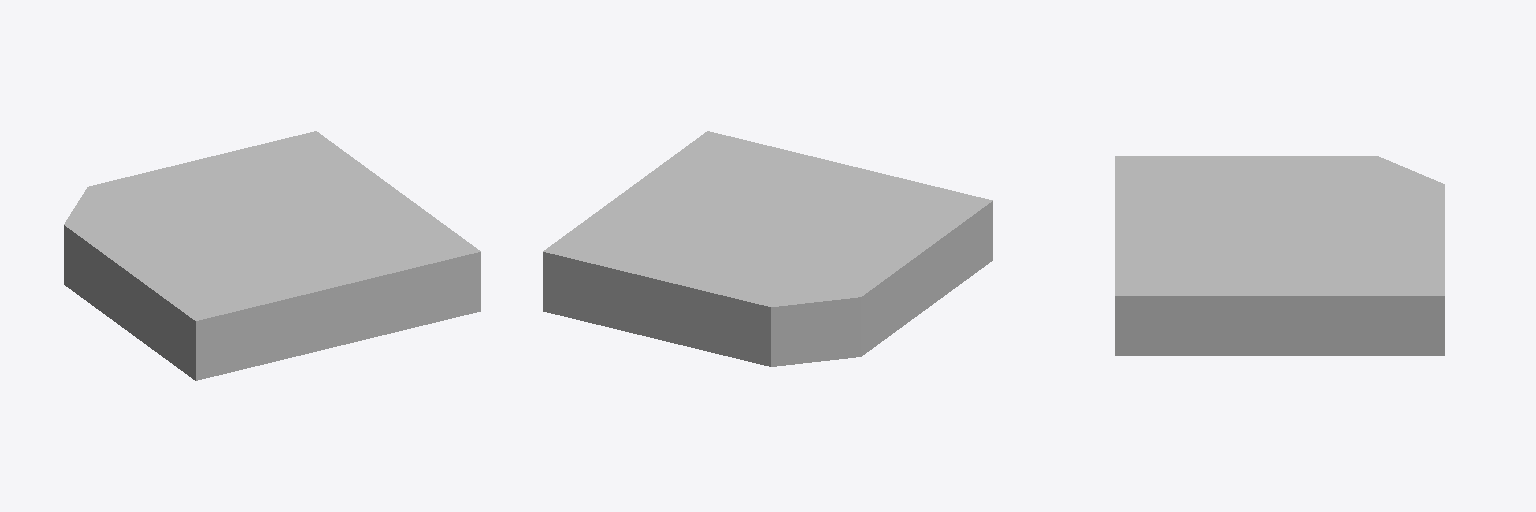
The model's file is RoadCorner2White.obj.
The picture shows the model from 3 angles: view 1: azimuth 30°, elevation 25°; view 2: azimuth 150°, elevation 25°; view 3: azimuth 270°, elevation 25°; orthographic projection.
Parts seen in each view (by area): view 1: CUBE1; view 2: CUBE1; view 3: CUBE1.
Boxes of the visible parts, box(x1,y1,x2,y2) form: CUBE1: box(64, 131, 480, 380); CUBE1: box(543, 131, 992, 366); CUBE1: box(1115, 156, 1444, 355).
Size of the model in its own units: 5 by 1 by 5.